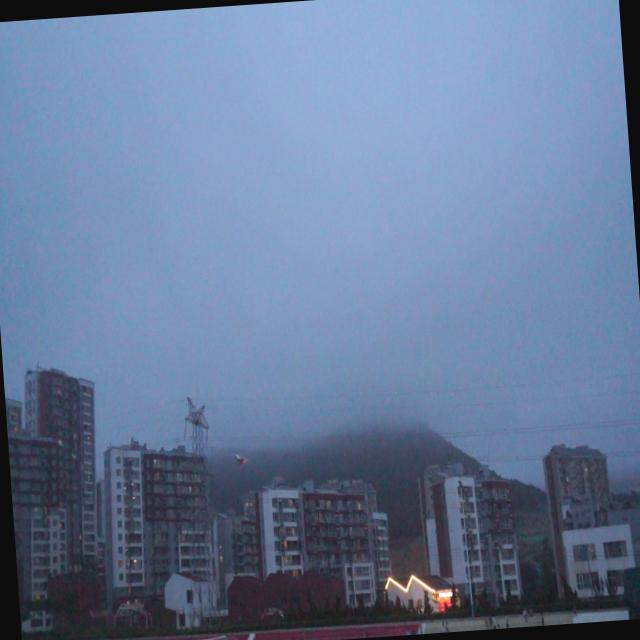drone: (230, 449, 249, 469)
